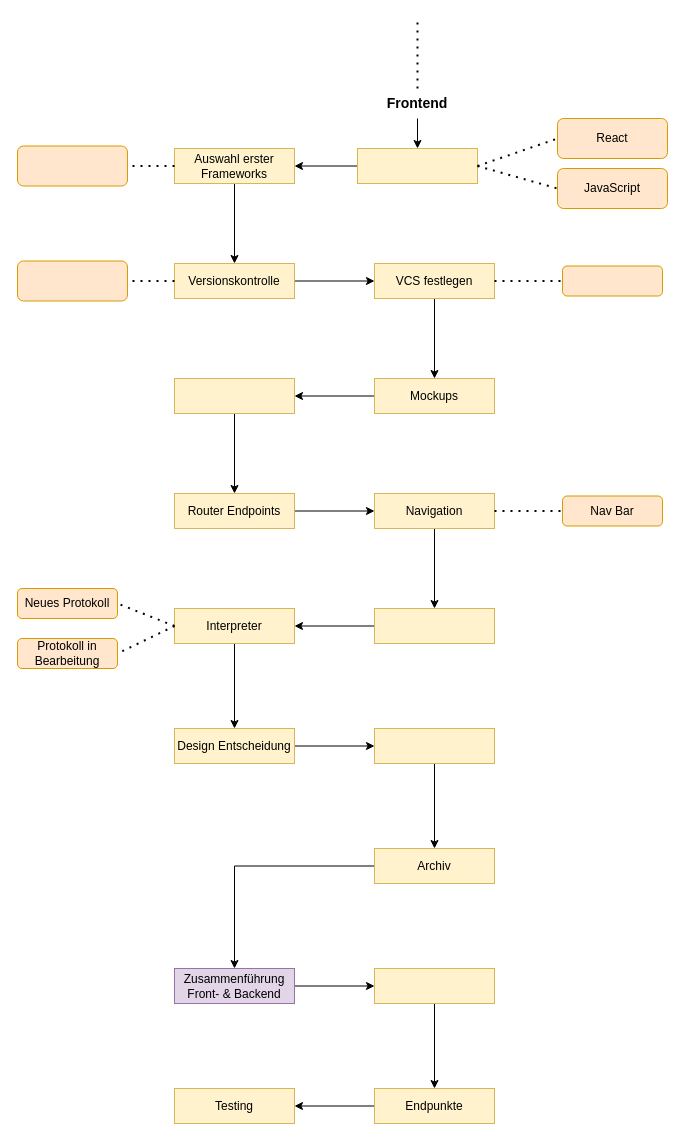
The diagram is 685 pixels wide and 1141 high, and some of its shapes have lost their labels. Here are the shapes that lost their labels. From the top down, the centre of each, then its label:
At point 72,165: "Auswahl Bibliotheken".
At point 417,166: "Recherche".
At point 72,280: "Git".
At point 612,280: "GitLab".
At point 234,396: "Grundgerüst der Anwendung".
At point 434,626: "Overlay Menü".
At point 434,746: "Benachrichtigungen".
At point 434,986: "Statistiken".
